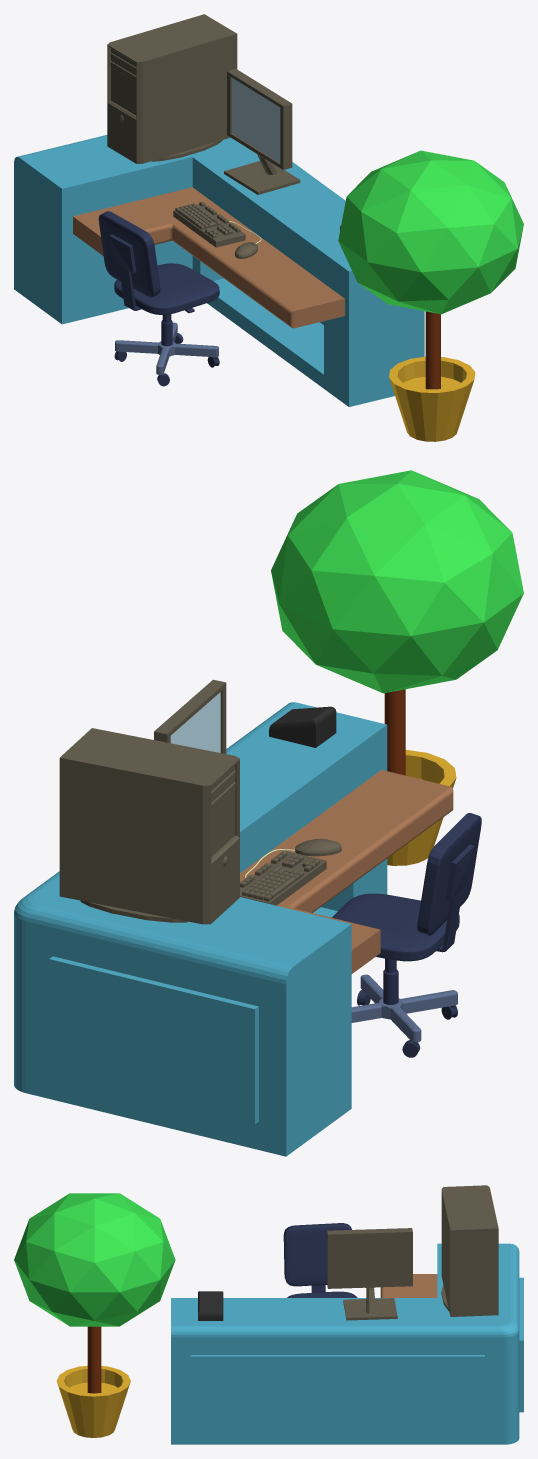
Rendered from Reception.fbx.
3 renders of one model, top to bottom at view 1: azimuth 30°, elevation 25°; view 2: azimuth 150°, elevation 25°; view 3: azimuth 270°, elevation 25°, orthographic. The views are drawn at different scales.
Visible parts, largest first — view 1: Cube, Icosphere, Cube.003, Cube.002, Ryglæn, Cube.004, Cylinder, Cube.001, NurbsPath; view 2: Cube, Icosphere, Cube.003, Ryglæn, Cube.002, Cube.004, Cube.001, Cylinder, Plane, NurbsPath; view 3: Cube, Icosphere, Cube.003, Cube.004, Cylinder, Ryglæn, NurbsPath, Cube.002, Plane.
Part boxes in pixels (left/top/right/bottom): Cube: left=14, top=135, right=424, bottom=406; Icosphere: left=338, top=150, right=523, bottom=314; Cube.003: left=107, top=14, right=237, bottom=163; Cube.002: left=73, top=187, right=344, bottom=328; Ryglæn: left=98, top=211, right=219, bottom=386; Cube.004: left=224, top=69, right=300, bottom=194; Cylinder: left=389, top=356, right=475, bottom=441; Cube.001: left=173, top=201, right=245, bottom=247; NurbsPath: left=425, top=311, right=440, bottom=389; Cube: left=14, top=702, right=387, bottom=1156; Icosphere: left=271, top=470, right=523, bottom=693; Cube.003: left=59, top=728, right=239, bottom=924; Ryglæn: left=332, top=813, right=481, bottom=1057; Cube.002: left=240, top=770, right=453, bottom=973; Cube.004: left=154, top=679, right=226, bottom=753; Cube.001: left=240, top=851, right=326, bottom=905; Cylinder: left=387, top=749, right=456, bottom=865; Plane: left=269, top=706, right=336, bottom=747; NurbsPath: left=384, top=689, right=405, bottom=775; Cube: left=171, top=1243, right=523, bottom=1444; Icosphere: left=14, top=1193, right=175, bottom=1326; Cube.003: left=441, top=1185, right=498, bottom=1316; Cube.004: left=327, top=1228, right=412, bottom=1320; Cylinder: left=56, top=1365, right=130, bottom=1437; Ryglæn: left=283, top=1223, right=357, bottom=1297; NurbsPath: left=87, top=1326, right=101, bottom=1393; Cube.002: left=380, top=1274, right=437, bottom=1297; Plane: left=198, top=1291, right=223, bottom=1320.
Size of the model in its own units: 690 by 685 by 1373.
